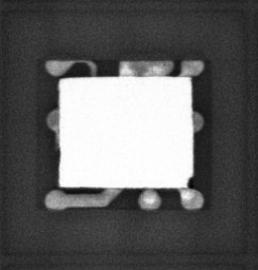DIE_BROKEN: (185, 174, 195, 189)
